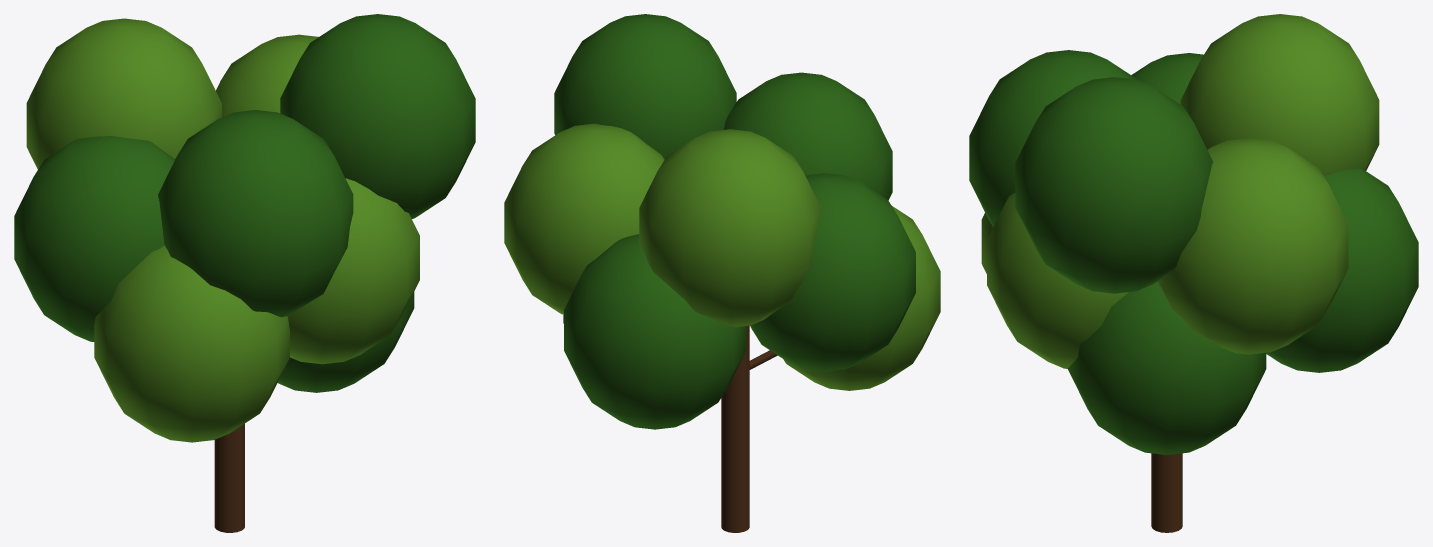
Rendered from Lombos_fa.obj.
The picture shows the model from 3 angles, left to right: view 1: azimuth 30°, elevation 25°; view 2: azimuth 150°, elevation 25°; view 3: azimuth 270°, elevation 25°; orthographic projection. The views are drawn at different scales.
Bounding box in the file's own units: 3.58 × 4.23 × 3.44.
